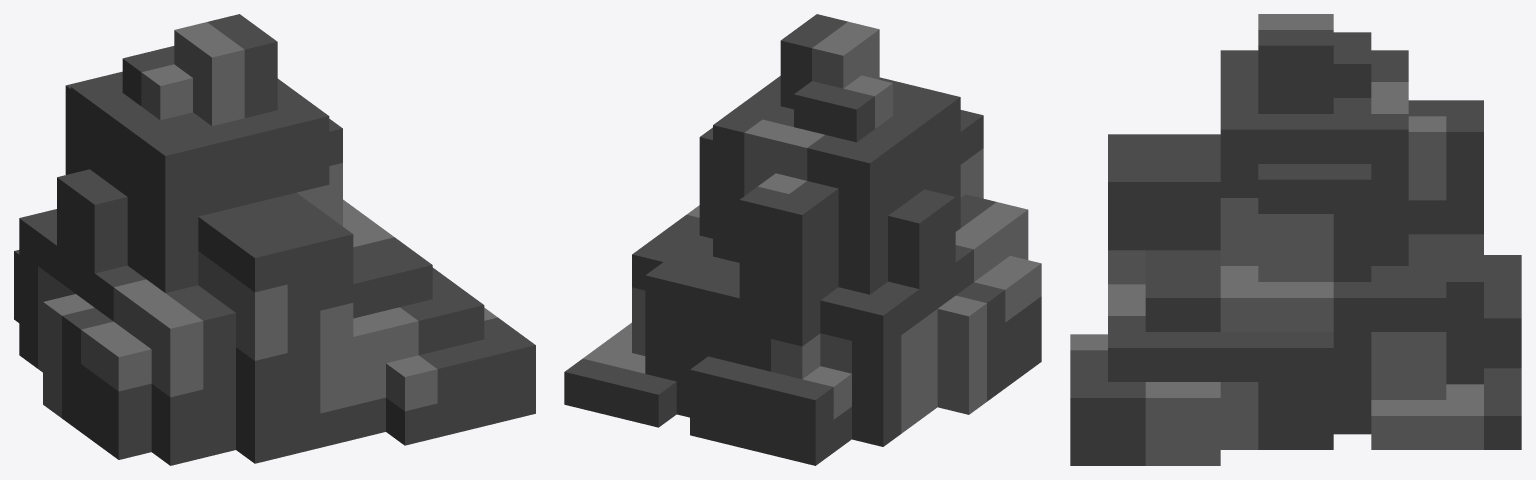
File: Stones-1-Stone 3.obj
3 views of the same model, side by side, from view 1: azimuth 30°, elevation 25°; view 2: azimuth 150°, elevation 25°; view 3: azimuth 270°, elevation 25° (orthographic). The views are drawn at different scales.
Visible parts, largest first — view 1: Stone 3; view 2: Stone 3; view 3: Stone 3.
Boxes of the visible parts, bbox=[...] form: Stone 3: bbox=[14, 14, 535, 465]; Stone 3: bbox=[564, 14, 1041, 465]; Stone 3: bbox=[1070, 14, 1521, 465].
Size of the model in its own units: 1.1 by 1 by 1.2.
Materials: 1 (1 with a texture image).
